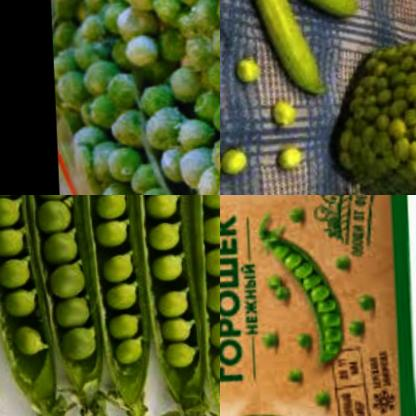peas: (40, 0, 220, 195), (336, 31, 416, 195), (154, 195, 211, 388), (47, 195, 102, 373), (266, 218, 333, 364), (0, 195, 51, 372), (246, 0, 332, 97), (105, 195, 144, 385), (256, 0, 369, 24), (253, 350, 306, 399), (263, 95, 303, 134), (220, 144, 251, 187), (295, 385, 330, 416), (329, 324, 373, 348), (273, 202, 308, 232), (326, 242, 352, 282), (235, 54, 266, 87), (251, 334, 282, 364), (258, 278, 289, 308), (284, 180, 334, 195), (349, 298, 378, 320), (278, 141, 299, 171), (294, 332, 310, 355)
